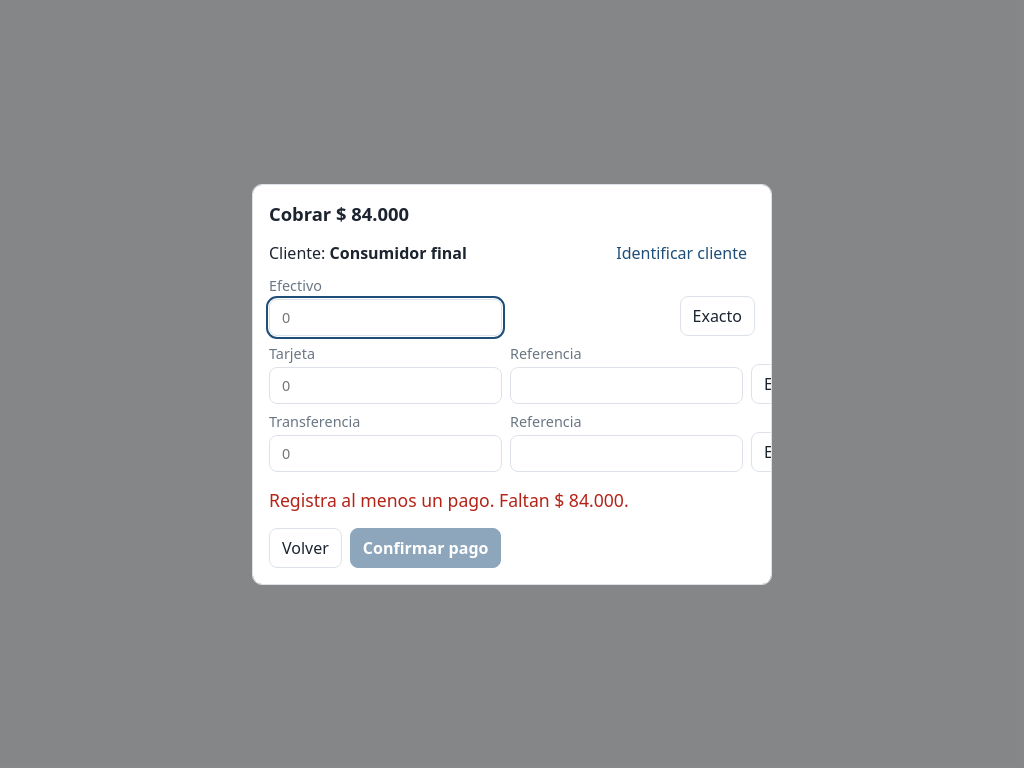
Test: Checkout en línea › un rechazo de validación (400) se muestra y no va a la cola
The image size is (1024, 768).
What coordinates should you click on to do the following:
click the 1st button "Exacto"
I would click on:
 (717, 316)
Its box is [680,296,755,336].
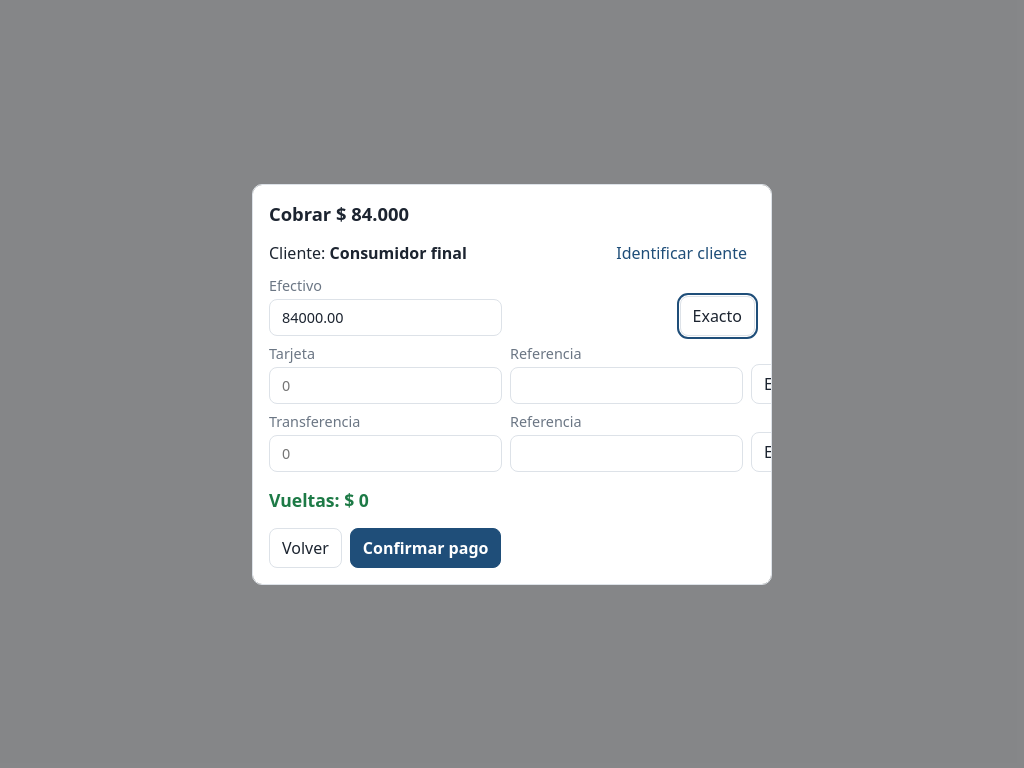
What coordinates should you click on to do the following:
click the button "Confirmar pago"
I would click on:
 (426, 548)
Its box is [350,528,502,568].
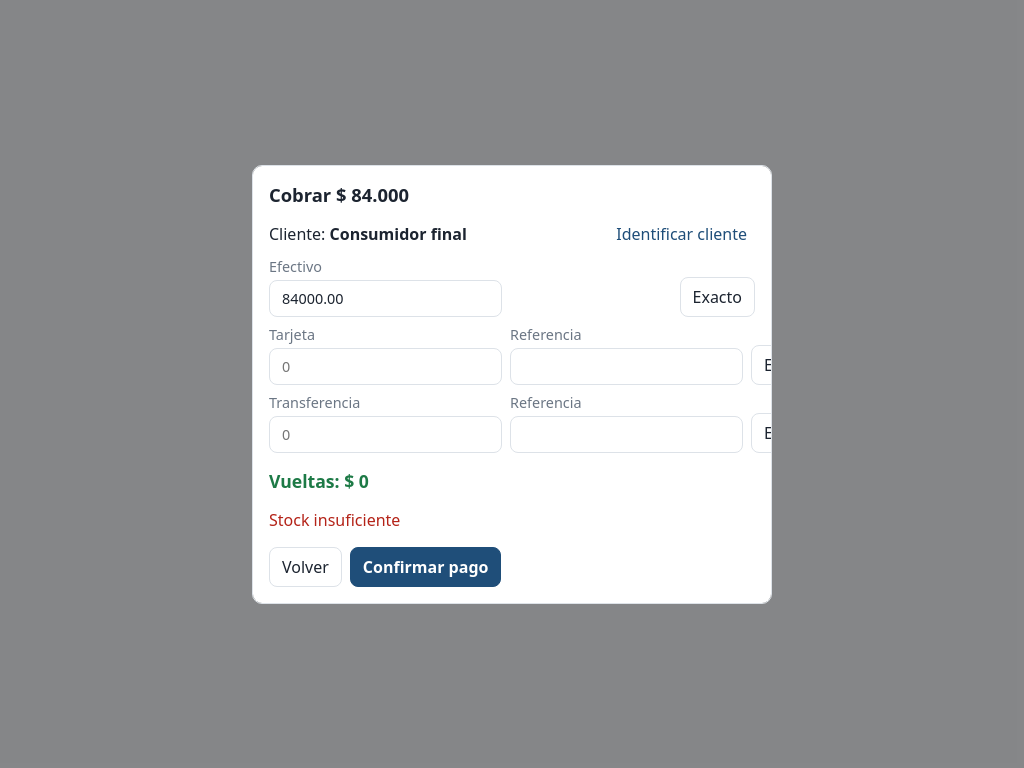
Now the message reads "Stock insuficiente", box [269,508,400,530]
